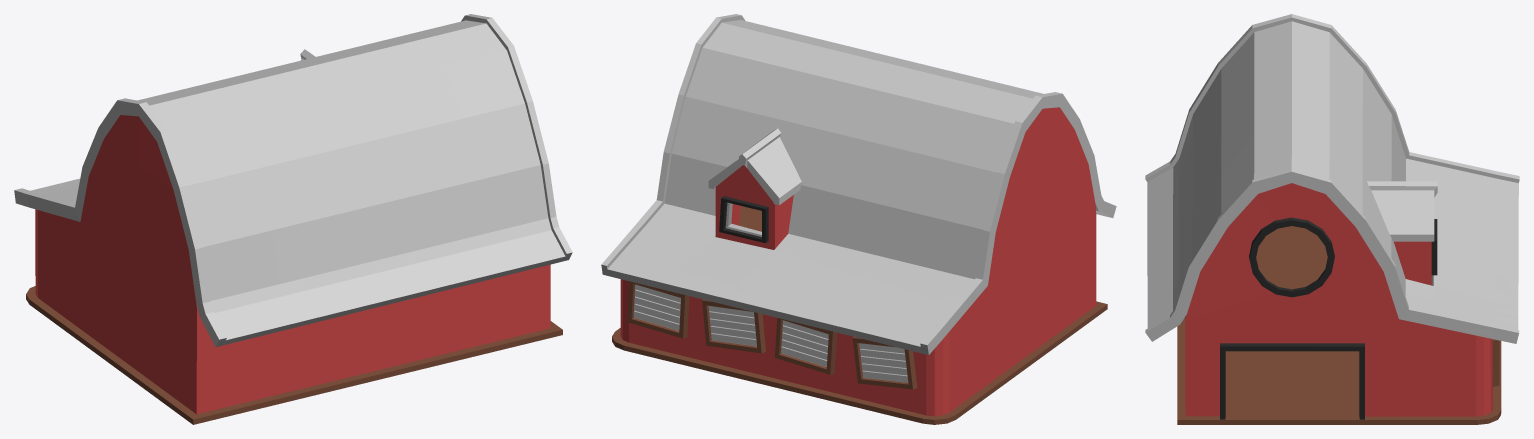
The model's file is farm.fbx.
3 views of the same model, side by side, from view 1: azimuth 30°, elevation 25°; view 2: azimuth 150°, elevation 25°; view 3: azimuth 270°, elevation 25° (orthographic). The views are drawn at different scales.
Visible parts, largest first — view 1: Mesh_29.011; view 2: Mesh_29.011; view 3: Mesh_29.011.
Part boxes in pixels (x1=…): Mesh_29.011: x1=14, y1=14, x2=572, y2=424; Mesh_29.011: x1=601, y1=14, x2=1116, y2=424; Mesh_29.011: x1=1145, y1=14, x2=1519, y2=424.
Size of the model in its own units: 9401 by 6637 by 9026.
